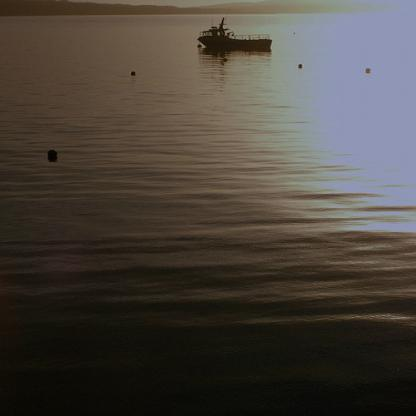boat: (194, 16, 273, 56)
